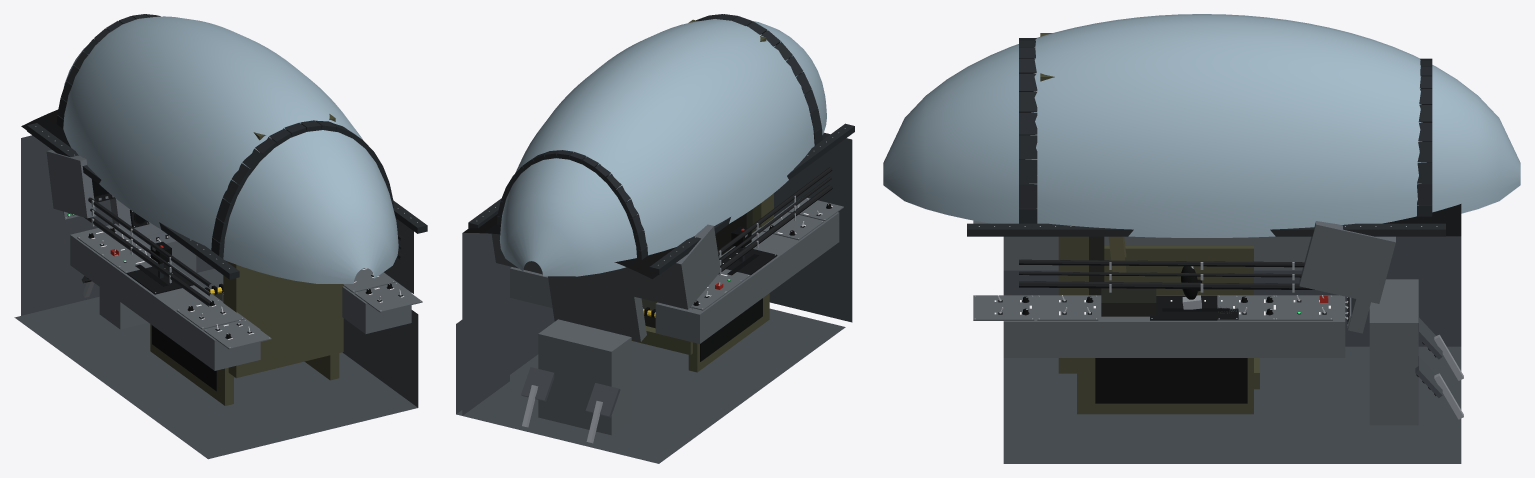
File: kit_glass3s.glb
3 views of the same model, side by side, from view 1: azimuth 30°, elevation 25°; view 2: azimuth 150°, elevation 25°; view 3: azimuth 270°, elevation 25° (orthographic). The views are drawn at different scales.
Parts seen in each view (by area): view 1: cockpit, CANOPY_GLASS; view 2: cockpit, CANOPY_GLASS; view 3: cockpit, CANOPY_GLASS.
Boxes of the visible parts, x1=… form: cockpit: x1=14, y1=14, x2=427, y2=459; CANOPY_GLASS: x1=63, y1=16, x2=398, y2=283; cockpit: x1=456, y1=14, x2=854, y2=463; CANOPY_GLASS: x1=499, y1=19, x2=826, y2=276; cockpit: x1=967, y1=33, x2=1463, y2=463; CANOPY_GLASS: x1=883, y1=14, x2=1520, y2=237.
Bounding box in the file's own units: 0.94 × 1.37 × 2.09.
